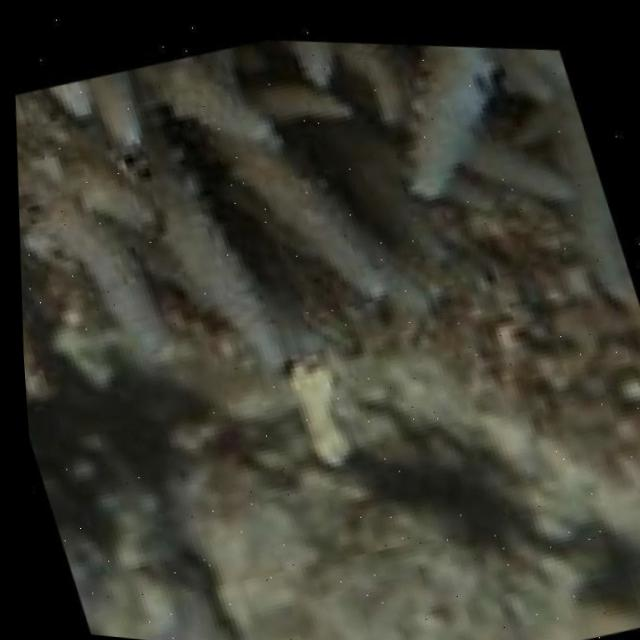Healthy Coral: (0, 0, 541, 371)
